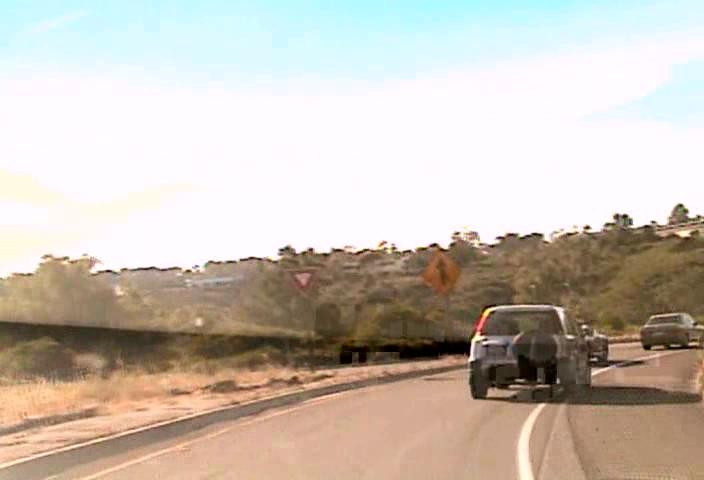yield: (287, 267, 316, 292)
